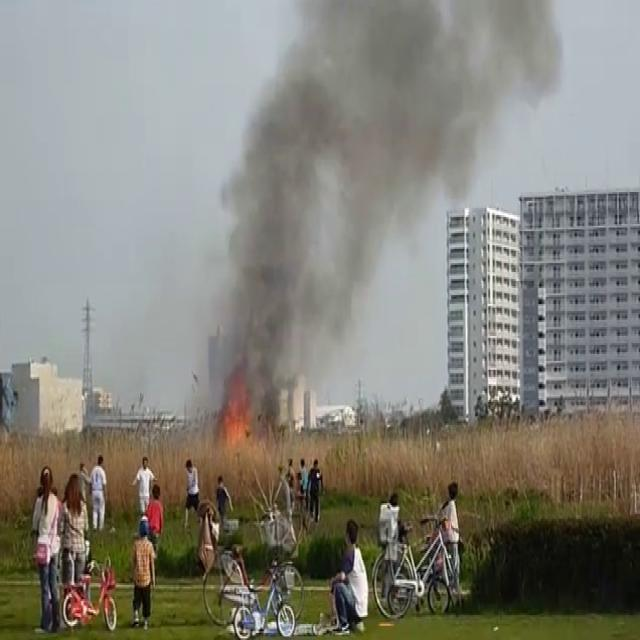Fire: (214, 386, 260, 456)
Smoke: (192, 0, 560, 418)
